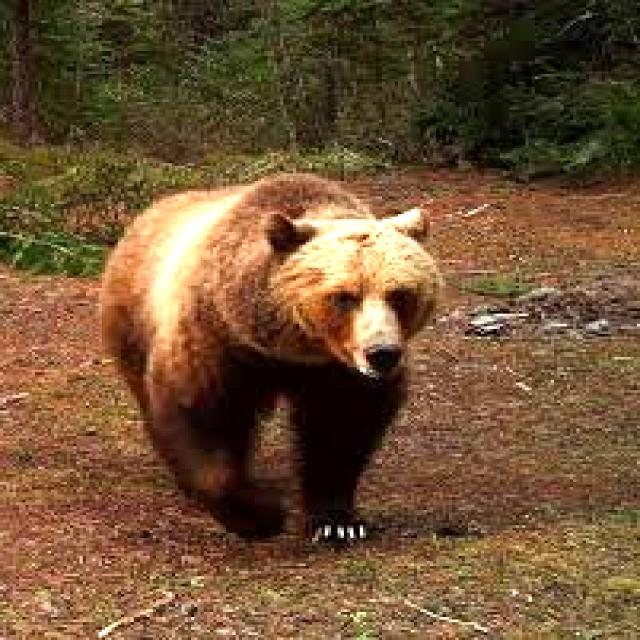bear: (81, 162, 454, 552)
